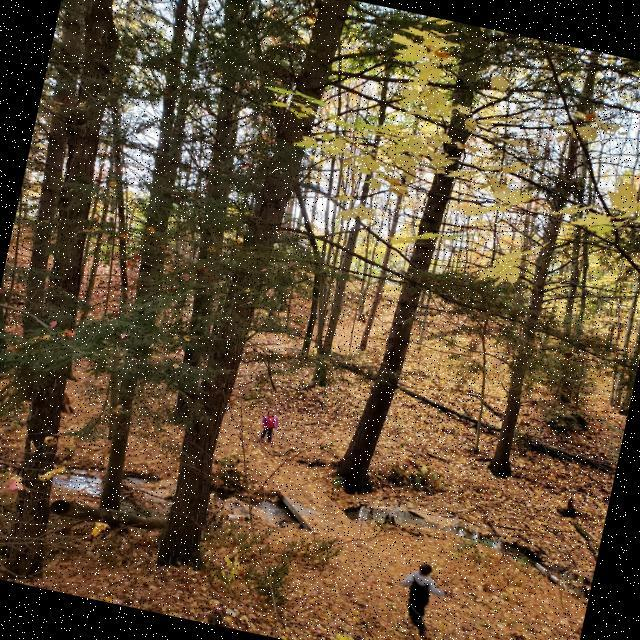fallen_object: (260, 318, 632, 517), (9, 432, 302, 588)
